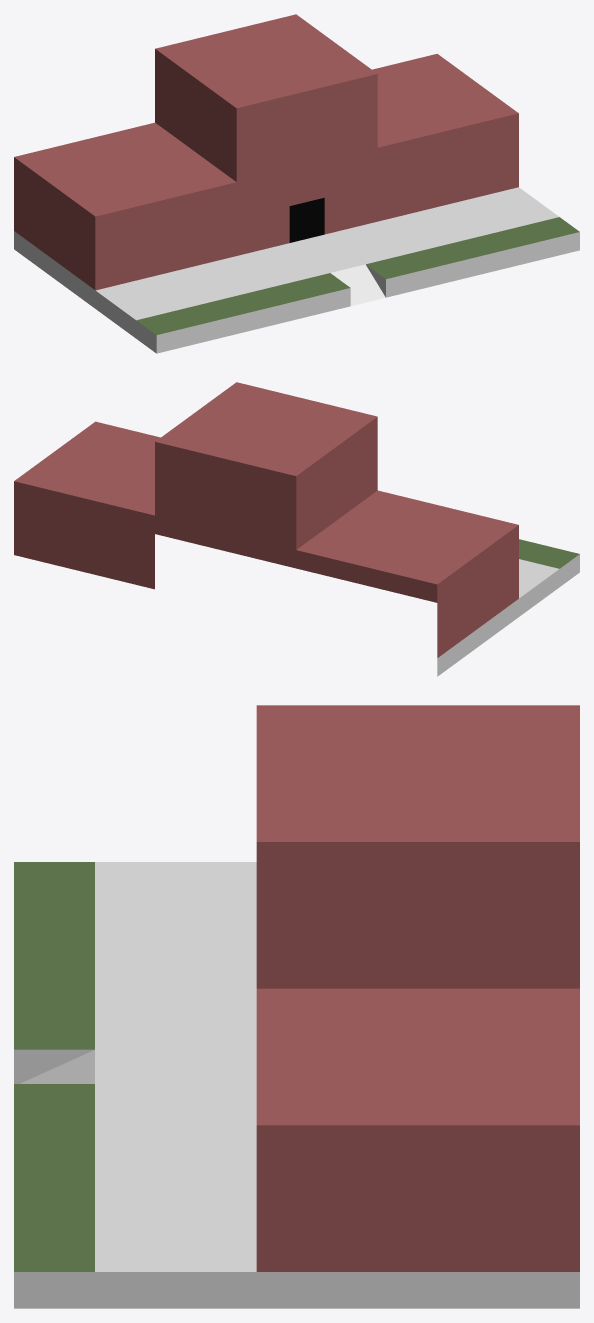
The model's file is casa_juventud.glb.
The picture shows the model from 3 angles, top to bottom: view 1: azimuth 30°, elevation 25°; view 2: azimuth 150°, elevation 25°; view 3: azimuth 270°, elevation 25°; orthographic projection. The views are drawn at different scales.
Visible parts, largest first — view 1: Plane; view 2: Plane; view 3: Plane.
Part boxes in pixels (x1,y1,x2,y2): Plane: (14, 14, 579, 353); Plane: (14, 382, 579, 676); Plane: (14, 705, 579, 1308).
Size of what is drawn, in the model's own units: 24 by 9 by 14.
